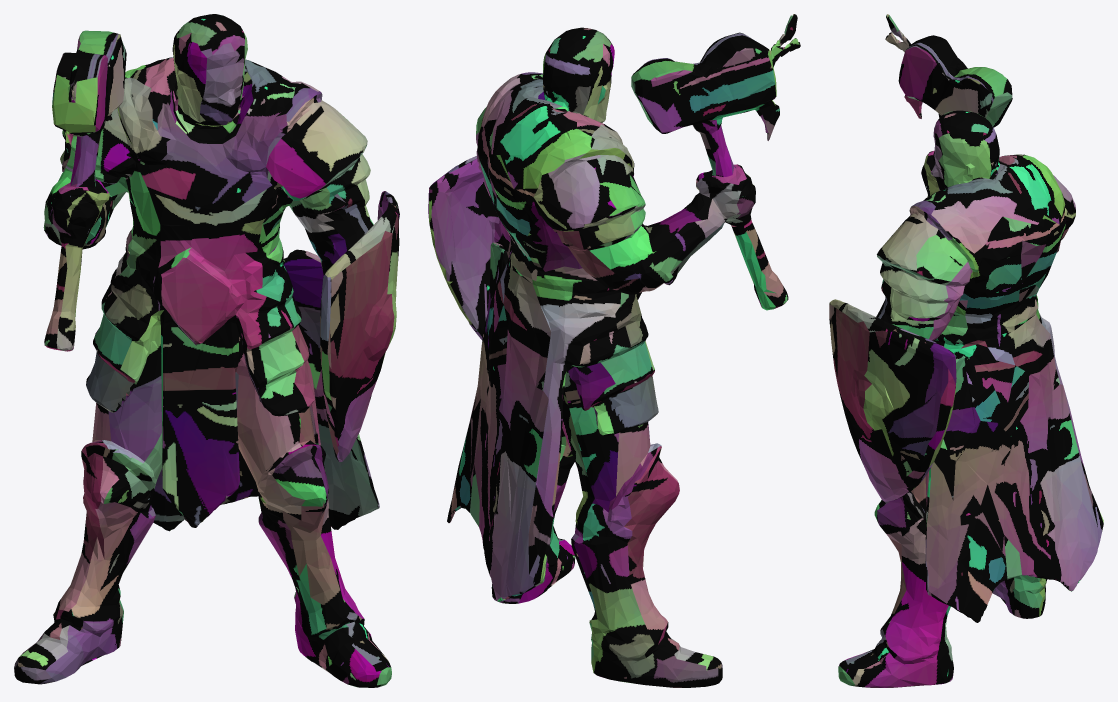
Rendered from arman_poscolor.glb.
The picture shows the model from 3 angles, left to right: view 1: azimuth 30°, elevation 25°; view 2: azimuth 150°, elevation 25°; view 3: azimuth 270°, elevation 25°; orthographic projection. The views are drawn at different scales.
Visible parts, largest first — view 1: world; view 2: world; view 3: world.
Boxes of the visible parts, left/top/right/bottom form: world: left=14, top=14, right=399, bottom=687; world: left=428, top=14, right=800, bottom=687; world: left=829, top=14, right=1103, bottom=687.
Size of the model in its own units: 0.5688 by 1 by 0.4495.
Materials: 1 (1 with a texture image).
